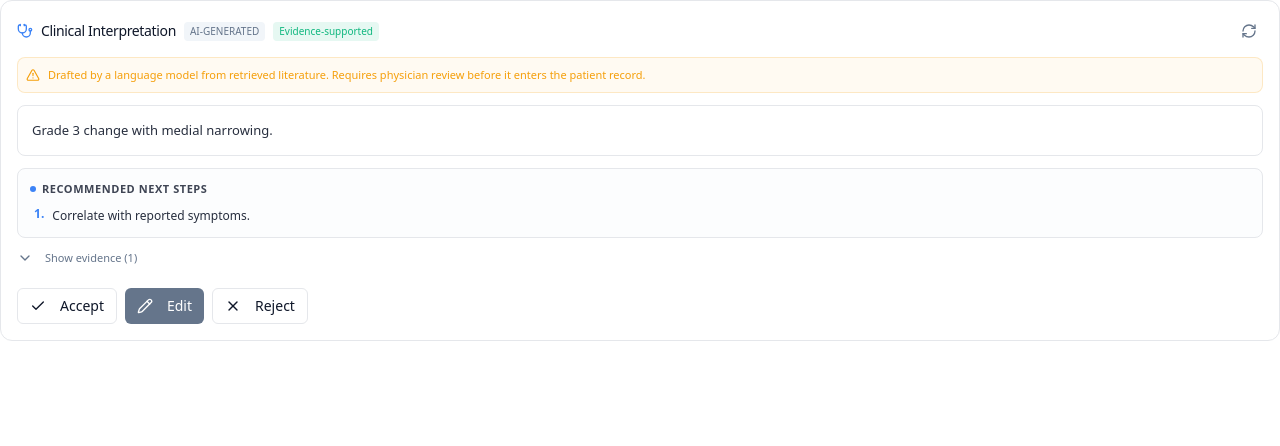
ClinicalNotePanel › sign-off › requires a reason before rejecting
The image size is (1280, 446).
Click the button "Reject" at (260, 306), box [212, 288, 308, 324]
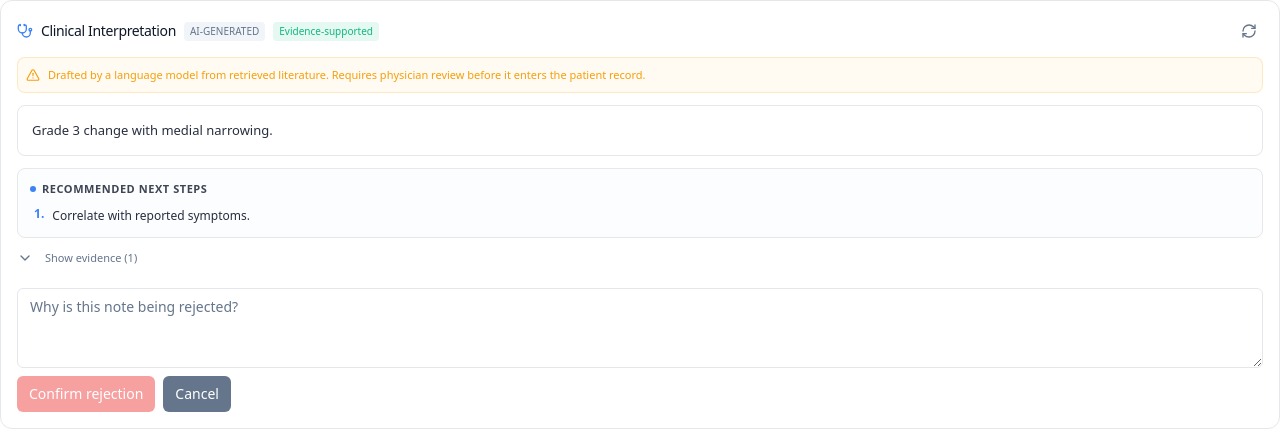
expect the button "Confirm rejection" is disabled: met, box [17, 376, 155, 412]
